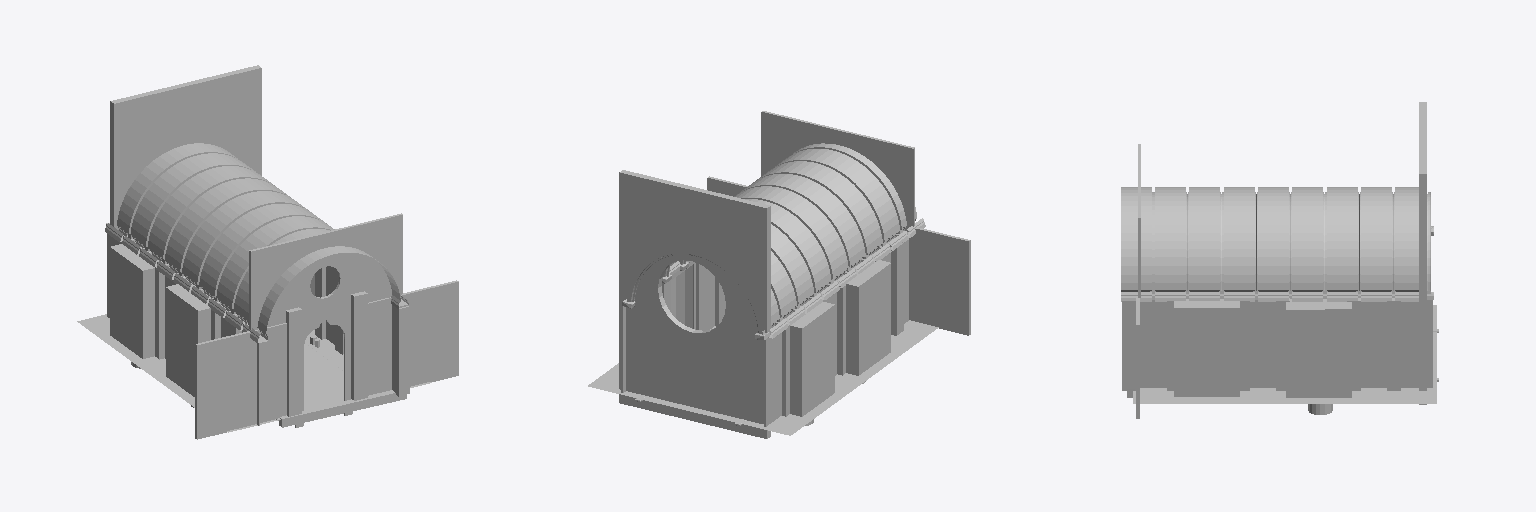
File: happyRoom.obj
The picture shows the model from 3 angles: view 1: azimuth 30°, elevation 25°; view 2: azimuth 150°, elevation 25°; view 3: azimuth 270°, elevation 25°; orthographic projection.
Visible parts, largest first — view 1: collapsed_collider, bordeCygnusFloor_keep_collider, centralCygnusFloor, bordeCygnusFloor, centralCygnusFloor_keep_collider; view 2: collapsed_collider, bordeCygnusFloor_keep_collider, bordeCygnusFloor; view 3: collapsed_collider, bordeCygnusFloor, bordeCygnusFloor_keep_collider.
Part boxes in pixels (bbox=[...]): collapsed_collider: bbox=[105, 65, 458, 439]; bordeCygnusFloor_keep_collider: bbox=[78, 314, 423, 431]; centralCygnusFloor: bbox=[279, 343, 343, 419]; bordeCygnusFloor: bbox=[77, 317, 431, 432]; centralCygnusFloor_keep_collider: bbox=[304, 360, 342, 409]; collapsed_collider: bbox=[619, 111, 970, 438]; bordeCygnusFloor_keep_collider: bbox=[588, 320, 938, 434]; bordeCygnusFloor: bbox=[634, 324, 937, 435]; collapsed_collider: bbox=[1121, 102, 1433, 418]; bordeCygnusFloor: bbox=[1133, 305, 1436, 403]; bordeCygnusFloor_keep_collider: bbox=[1135, 306, 1436, 403].
Size of the model in its own units: 33.55 by 29.13 by 35.39.